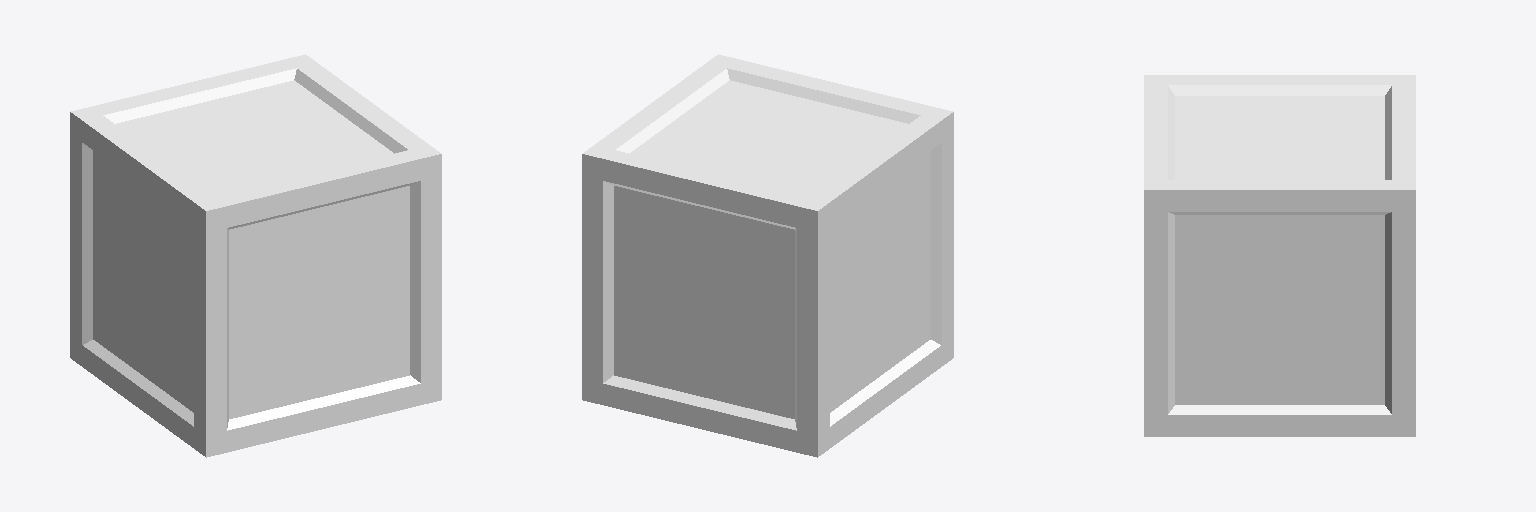
The model's file is Crate.obj.
3 views of the same model, side by side, from view 1: azimuth 30°, elevation 25°; view 2: azimuth 150°, elevation 25°; view 3: azimuth 270°, elevation 25° (orthographic).
Parts seen in each view (by area): view 1: Cube_Cube.001; view 2: Cube_Cube.001; view 3: Cube_Cube.001.
Part boxes in pixels (bbox=[...]): Cube_Cube.001: bbox=[70, 54, 441, 457]; Cube_Cube.001: bbox=[582, 54, 953, 457]; Cube_Cube.001: bbox=[1144, 75, 1415, 436].
Size of the model in its own units: 2 by 2 by 2.